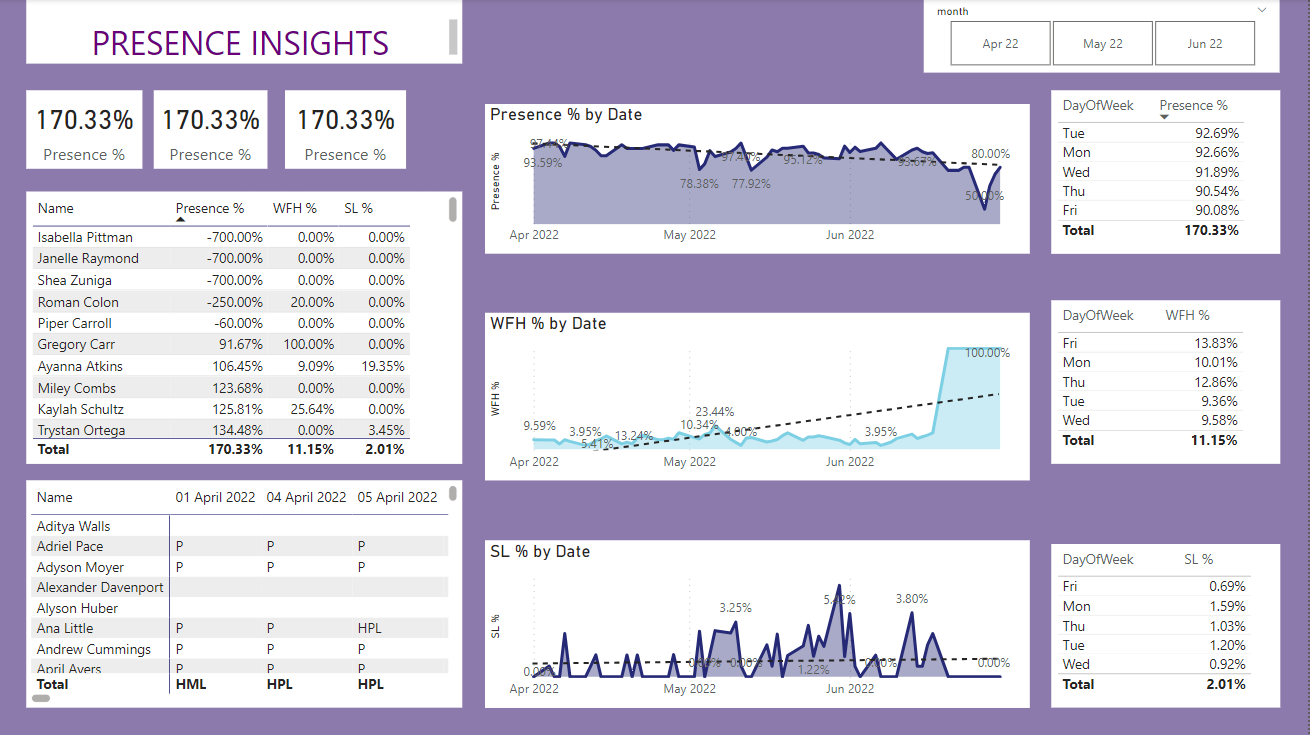

Layout of this report page (visuals, bound fields, positions):
{"tool":"powerbi","page":{"name":"Page 1","canvas":[1280,720],"ordinal":0},"visuals":[{"type":"card","fields":{"Values":["Measure Table.Presence %"]},"box":[25.7,89.2,113.7,77],"z":0},{"type":"slicer","fields":{"Values":["Final Data.month"]},"box":[903.4,0,348.4,72.1],"z":1000},{"type":"card","fields":{"Values":["Measure Table.Presence %"]},"box":[150.4,89.2,111.2,77],"z":2000},{"type":"card","fields":{"Values":["Measure Table.Presence %"]},"box":[278.7,89.2,118.6,77],"z":3000},{"type":"tableEx","fields":{"Values":["Final Data.Name","Measure Table.Presence %","Measure Table.WFH %","Measure Table.SL %"]},"box":[25.7,188.3,426.6,266.5],"z":4000},{"type":"textbox","box":[25.7,0,426.6,63.6],"z":5000},{"type":"pivotTable","fields":{"Rows":["Final Data.Name"],"Values":["Min(Final Data.Value)"],"Columns":["Final Data.Date"]},"box":[25.7,470.6,426.6,222.5],"z":6000},{"type":"areaChart","fields":{"Category":["Final Data.Date"],"Y":["Measure Table.Presence %"]},"box":[474.3,102.7,533,146.7],"z":7000},{"type":"areaChart","fields":{"Category":["Final Data.Date"],"Y":["Measure Table.WFH %"]},"box":[474.3,306.8,533,163.8],"z":8000},{"type":"areaChart","fields":{"Category":["Final Data.Date"],"Y":["Measure Table.SL %"]},"box":[474.3,529.3,533,163.8],"z":9000},{"type":"tableEx","fields":{"Values":["Final Data.DayOfWeek","Measure Table.Presence %"]},"box":[1028,89.2,223.7,160.1],"z":10000},{"type":"tableEx","fields":{"Values":["Final Data.DayOfWeek","Measure Table.WFH %"]},"box":[1028,294.6,223.7,160.1],"z":11000},{"type":"tableEx","fields":{"Values":["Final Data.DayOfWeek","Measure Table.SL %"]},"box":[1028,533,223.7,160.1],"z":12000}]}

Visuals, with their boxes in screenshot pixels (x1, y1, x2, y2), scaled from the page's 1280x720 canvas onto the 1310x735 screenshot:
card - Measure Table.Presence %: BBox(26, 91, 143, 170)
slicer - Final Data.month: BBox(925, 0, 1281, 74)
card - Measure Table.Presence %: BBox(154, 91, 268, 170)
card - Measure Table.Presence %: BBox(285, 91, 407, 170)
tableEx - Final Data.Name x Measure Table.Presence %: BBox(26, 192, 463, 464)
textbox: BBox(26, 0, 463, 65)
pivotTable - Final Data.Name x Min(Final Data.Value): BBox(26, 480, 463, 708)
areaChart - Final Data.Date x Measure Table.Presence %: BBox(485, 105, 1031, 255)
areaChart - Final Data.Date x Measure Table.WFH %: BBox(485, 313, 1031, 480)
areaChart - Final Data.Date x Measure Table.SL %: BBox(485, 540, 1031, 708)
tableEx - Final Data.DayOfWeek x Measure Table.Presence %: BBox(1052, 91, 1281, 254)
tableEx - Final Data.DayOfWeek x Measure Table.WFH %: BBox(1052, 301, 1281, 464)
tableEx - Final Data.DayOfWeek x Measure Table.SL %: BBox(1052, 544, 1281, 708)
